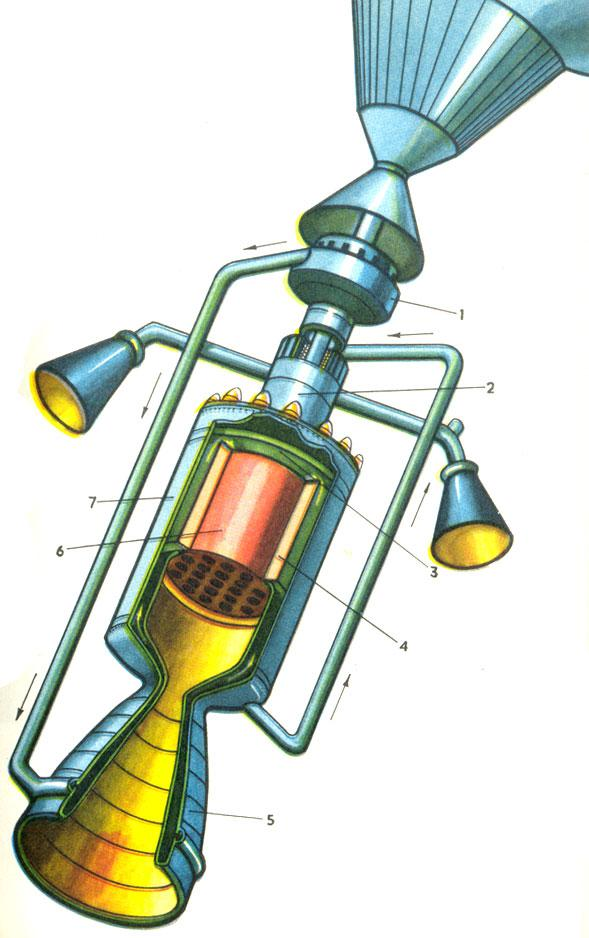thruster: (7, 677, 211, 933), (34, 328, 151, 440), (431, 465, 515, 568)
